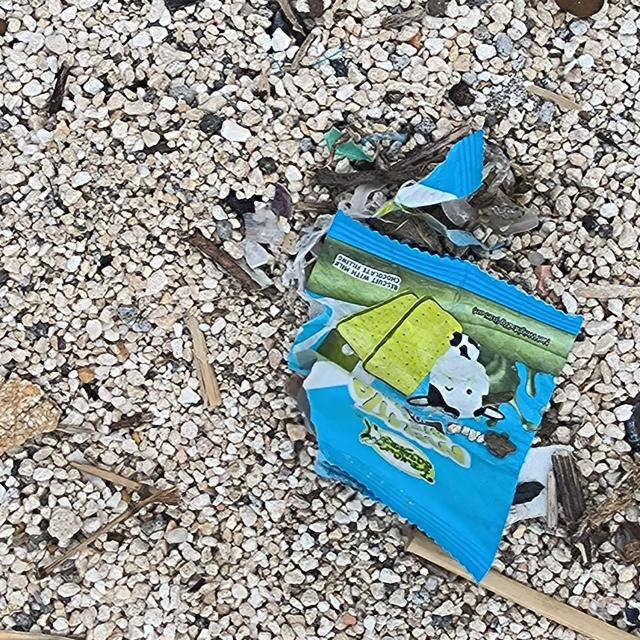plastic_waste: (288, 174, 592, 589)
